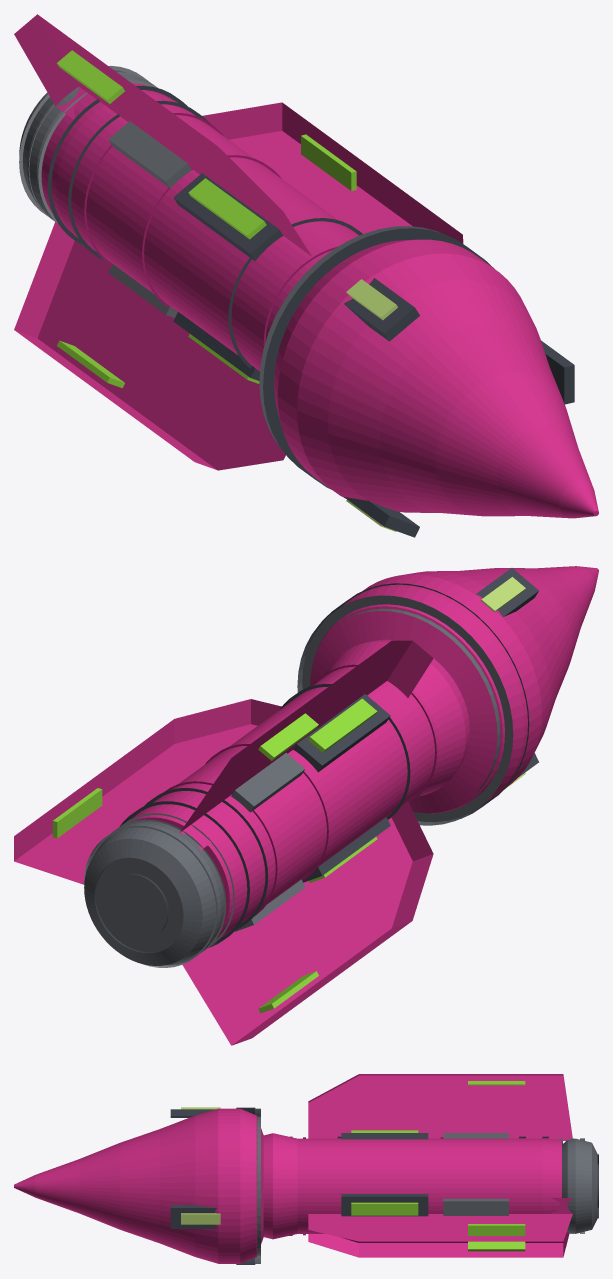
Rendered from cohete_galaxy_combat.glb.
3 views of the same model, one above another, from view 1: azimuth 30°, elevation 25°; view 2: azimuth 150°, elevation 25°; view 3: azimuth 270°, elevation 25° (orthographic). The views are drawn at different scales.
Parts seen in each view (by area): view 1: warhead, body_core, tail_fin_2, tail_fin_0, tail_fin_1, warhead_black_collar, rear_rail_1, midlamp_mount_1, exhaust_nozzle, midlamp_1, headlamp_mount_1, tail_fin_1_green (+12 smaller); view 2: body_core, warhead, tail_fin_2, exhaust_nozzle, tail_fin_0, tail_fin_1, warhead_rim_lower, rear_rail_1, midlamp_mount_1, midlamp_1, tail_fin_1_green, tail_fin_0_green (+9 smaller); view 3: warhead, body_core, tail_fin_1, tail_fin_0, tail_fin_2, exhaust_nozzle, midlamp_mount_0, rear_rail_0, midlamp_0, headlamp_mount_0, tail_fin_0_green, warhead_rim_lower (+6 smaller).
Part boxes in pixels (box(x1,y1,x2,y2)): warhead: box(274, 239, 598, 518); body_core: box(41, 83, 358, 371); tail_fin_2: box(14, 221, 285, 470); tail_fin_0: box(202, 102, 463, 243); tail_fin_1: box(14, 14, 311, 256); warhead_black_collar: box(263, 228, 494, 489); rear_rail_1: box(108, 121, 191, 188); midlamp_mount_1: box(173, 173, 283, 260); exhaust_nozzle: box(19, 70, 153, 219); midlamp_1: box(188, 178, 266, 239); headlamp_mount_1: box(344, 278, 419, 341); tail_fin_1_green: box(57, 50, 124, 103); body_core: box(130, 639, 469, 939); warhead: box(310, 566, 598, 813); tail_fin_2: box(182, 801, 433, 1045); exhaust_nozzle: box(84, 821, 224, 965); tail_fin_0: box(14, 699, 281, 884); tail_fin_1: box(180, 640, 433, 850); warhead_rim_lower: box(297, 595, 513, 825); rear_rail_1: box(231, 753, 304, 812); midlamp_mount_1: box(293, 694, 390, 772); midlamp_1: box(308, 698, 377, 752); tail_fin_1_green: box(258, 713, 318, 760); tail_fin_0_green: box(52, 788, 102, 838); warhead: box(14, 1108, 263, 1263); body_core: box(263, 1133, 561, 1239); tail_fin_1: box(308, 1074, 572, 1140); tail_fin_0: box(308, 1198, 572, 1241); tail_fin_2: box(308, 1232, 569, 1257); exhaust_nozzle: box(562, 1138, 597, 1233); midlamp_mount_0: box(341, 1194, 428, 1216); rear_rail_0: box(443, 1198, 508, 1215); midlamp_0: box(351, 1202, 418, 1215); headlamp_mount_0: box(170, 1205, 216, 1228); tail_fin_0_green: box(468, 1224, 525, 1235); warhead_rim_lower: box(255, 1108, 260, 1263).
Bounding box in the file's own units: 1.4 × 1.49 × 4.29.
